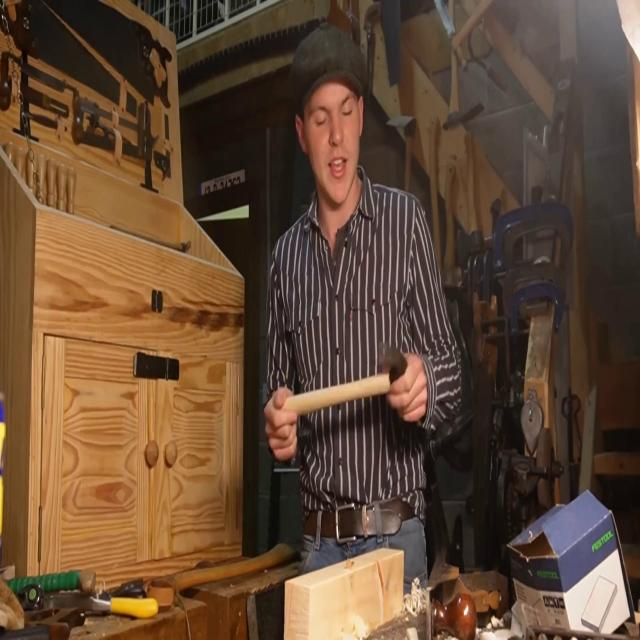hammer: (284, 345, 408, 416)
